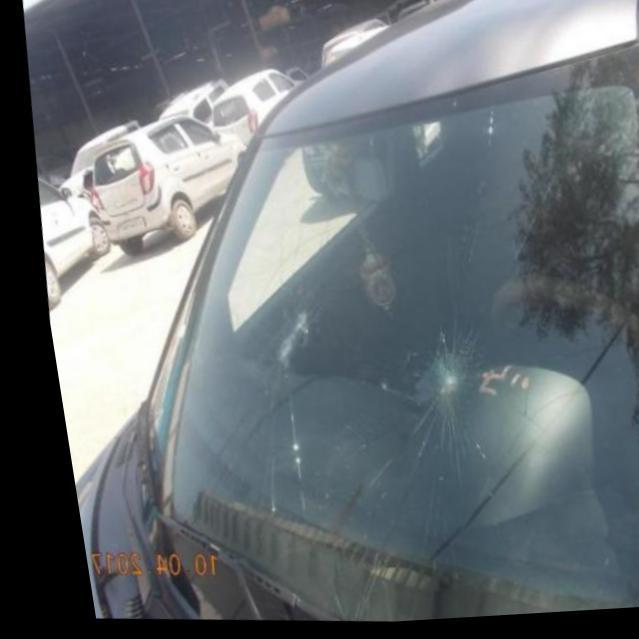glass shatter: (399, 341, 475, 448), (248, 309, 303, 373)
